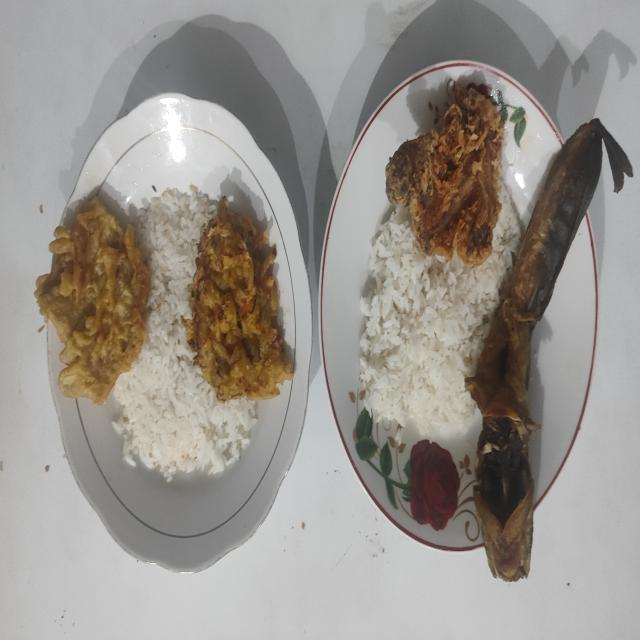nasi_putih: (112, 187, 258, 481), (360, 185, 520, 438)
